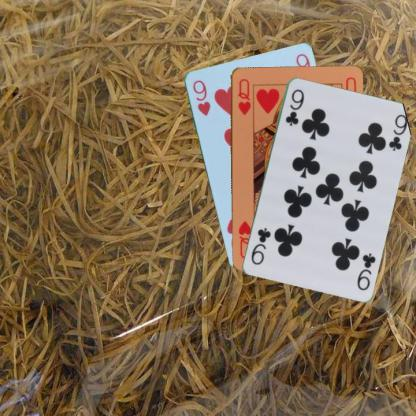9c: (354, 249, 377, 292), (283, 86, 305, 127)
9h: (190, 77, 212, 117)
Qh: (234, 76, 252, 116)
